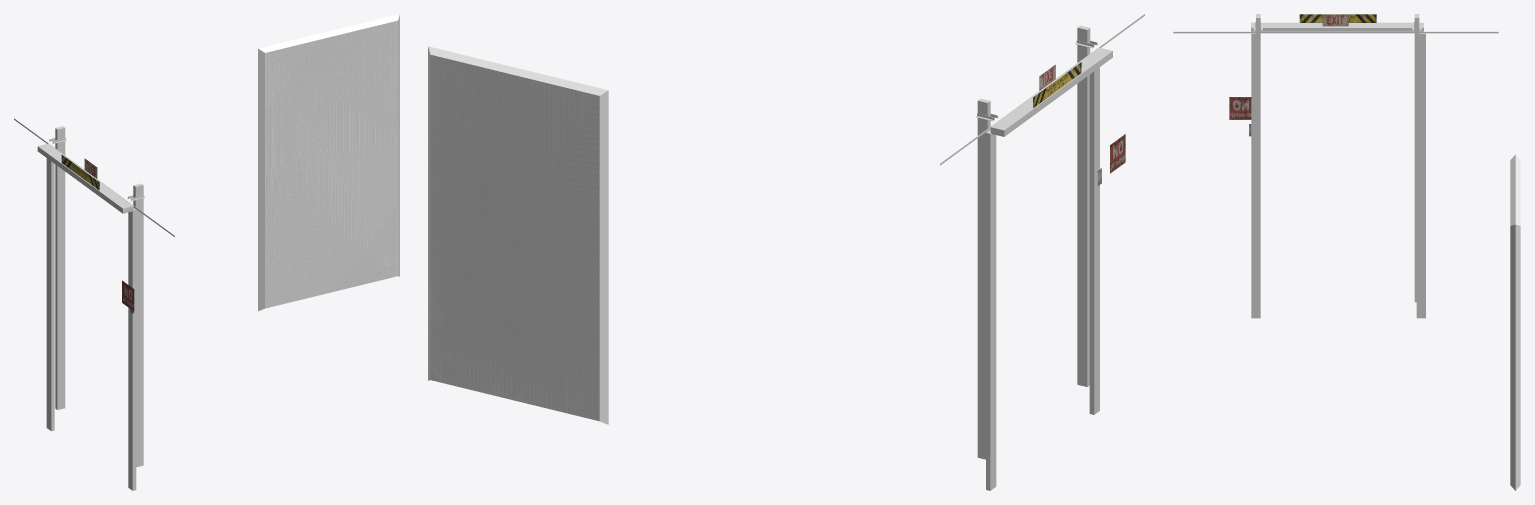
File: ind_bld_01_a.dae
3 renders of one model, left to right at view 1: azimuth 30°, elevation 25°; view 2: azimuth 150°, elevation 25°; view 3: azimuth 270°, elevation 25°, orthographic. The views are drawn at different scales.
Visible parts, largest first — view 1: ind_bld_01_a_a1500, Colmesh-1, ind_bld_01_a_a500; view 2: ind_bld_01_a_a1500, Colmesh-1, ind_bld_01_a_a500; view 3: ind_bld_01_a_a1500, ind_bld_01_a_a500, Colmesh-1.
Boxes of the visible parts, x1,y1,x2,y2 form: ind_bld_01_a_a1500: [14, 20, 397, 490]; Colmesh-1: [258, 14, 399, 311]; ind_bld_01_a_a500: [37, 126, 143, 490]; ind_bld_01_a_a1500: [430, 14, 1144, 490]; Colmesh-1: [428, 46, 608, 424]; ind_bld_01_a_a500: [977, 26, 1112, 490]; ind_bld_01_a_a1500: [1173, 14, 1498, 318]; ind_bld_01_a_a500: [1251, 14, 1425, 318]; Colmesh-1: [1510, 154, 1520, 490].
Bounding box in the file's own units: 12.38 × 9.02 × 8.74.
